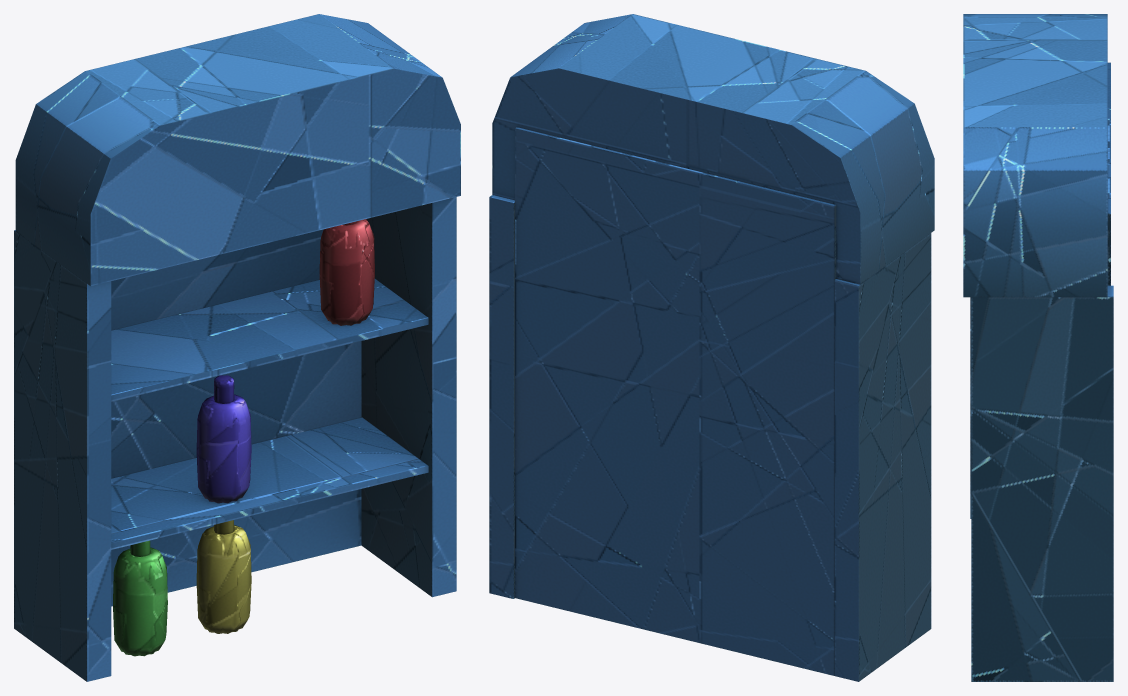
The model's file is MD_jiihannki.fbx.
3 views of the same model, side by side, from view 1: azimuth 30°, elevation 25°; view 2: azimuth 150°, elevation 25°; view 3: azimuth 270°, elevation 25° (orthographic). The views are drawn at different scales.
Parts seen in each view (by area): view 1: pCube10; view 2: pCube10; view 3: pCube10.
Boxes of the visible parts, x1,y1,x2,y2 form: pCube10: [14, 14, 460, 681]; pCube10: [489, 14, 934, 681]; pCube10: [963, 14, 1113, 681].
Size of the model in its own units: 210 by 295 by 76.55.
